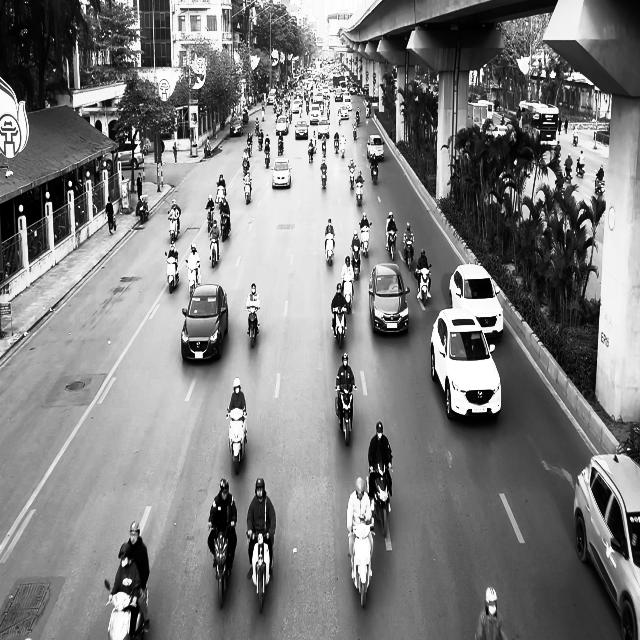bus: (516, 100, 559, 148)
car: (573, 452, 640, 639), (429, 308, 502, 420), (448, 262, 504, 340), (180, 283, 228, 362), (368, 262, 410, 335), (270, 156, 292, 188), (367, 135, 384, 160)
motorbike: (104, 578, 150, 640), (348, 514, 373, 608), (247, 530, 273, 613), (209, 523, 233, 609), (369, 464, 392, 538), (226, 409, 247, 475), (335, 384, 356, 446), (414, 264, 432, 306), (331, 305, 347, 349), (245, 305, 260, 347), (185, 260, 201, 298), (165, 252, 179, 294), (359, 221, 372, 258), (208, 231, 220, 267), (342, 276, 354, 312), (403, 234, 414, 270), (168, 210, 180, 243), (387, 228, 398, 261), (219, 211, 231, 241), (324, 233, 335, 265), (350, 246, 360, 280), (138, 194, 148, 223), (205, 206, 215, 233), (594, 171, 605, 195), (243, 175, 252, 204), (355, 180, 364, 206), (348, 164, 356, 189), (370, 161, 378, 184), (320, 167, 328, 190), (576, 158, 584, 177), (264, 146, 270, 168), (308, 142, 314, 163)
